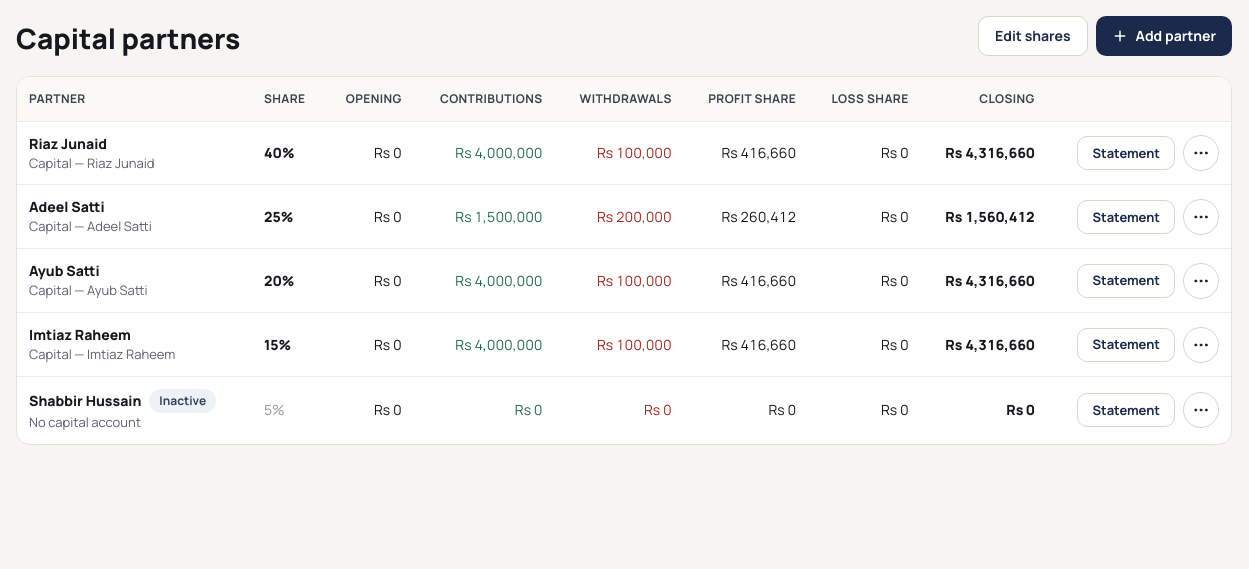
Test: Capital partners: the list › greys out Add transaction for an inactive partner
The width and height of the screenshot is (1249, 569).
Click the button named "More for Shabbir Hussain": (1201,410) [1183,392,1219,428]
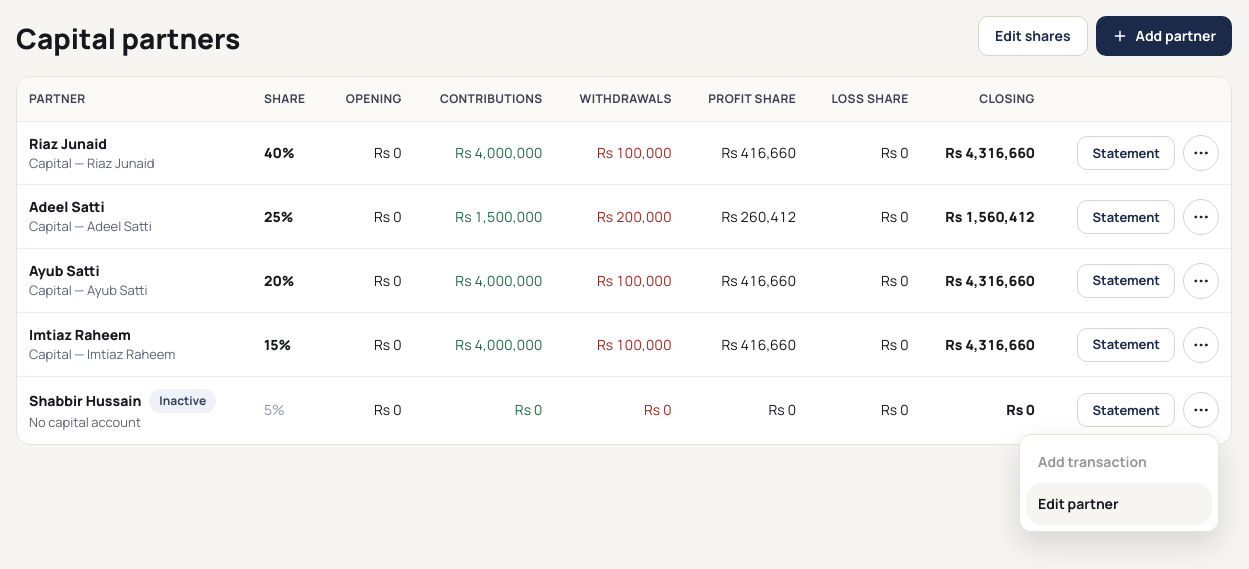
Now the menu item "Add transaction" is disabled, box [1026,441,1212,483]
Now the menu item "Edit partner" is enabled, box [1026,483,1212,525]
